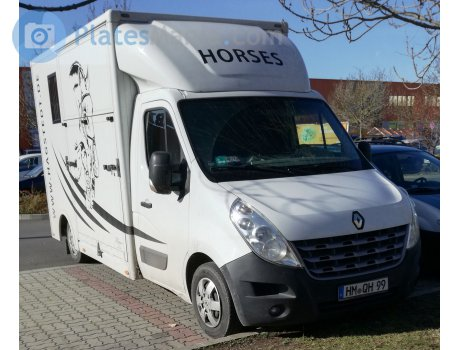License Plates: (347, 284, 387, 294)
